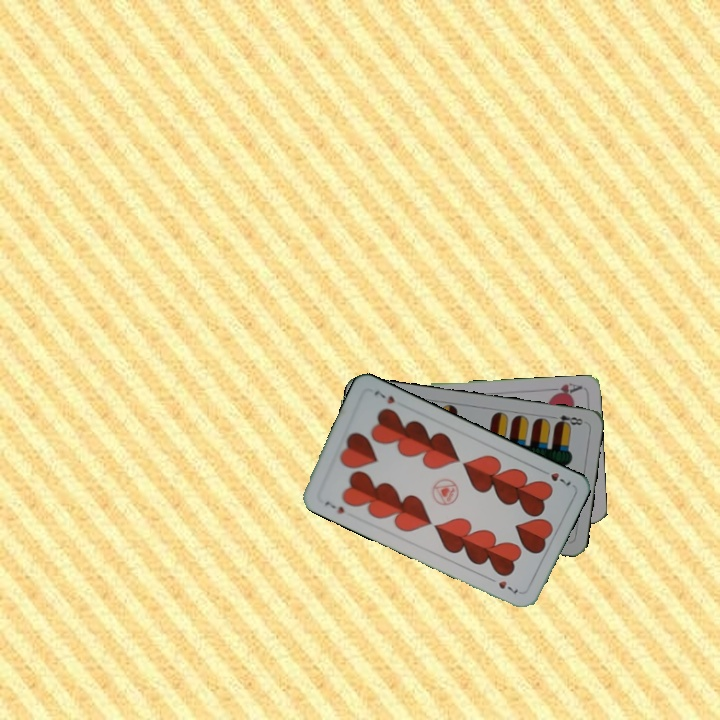E8: (547, 411, 587, 429)
H7: (536, 465, 574, 488), (320, 496, 347, 517)
HA: (544, 379, 584, 400)
